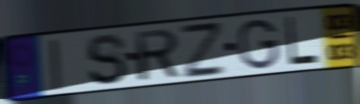G: (236, 17, 281, 71)
I: (46, 37, 64, 93)
L: (284, 14, 319, 67)
R: (133, 26, 182, 83)
S: (84, 32, 130, 87)
Z: (177, 21, 229, 81)
